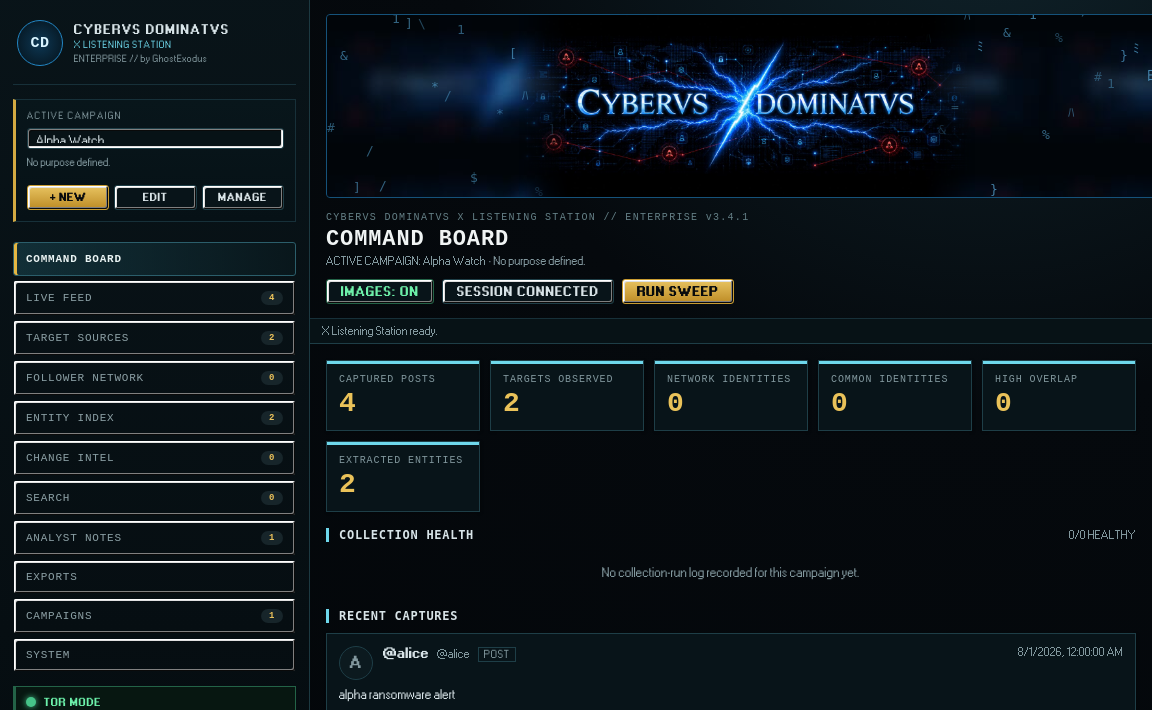
PC5 — restored analyst-UX filters (M12–M15, L2) › L2: the run-log passes ratio never renders greater than its requested budget
Click the button with class "xls-tab" showing "CHANGE INTEL 0": [70, 458] box [13,440,296,476]
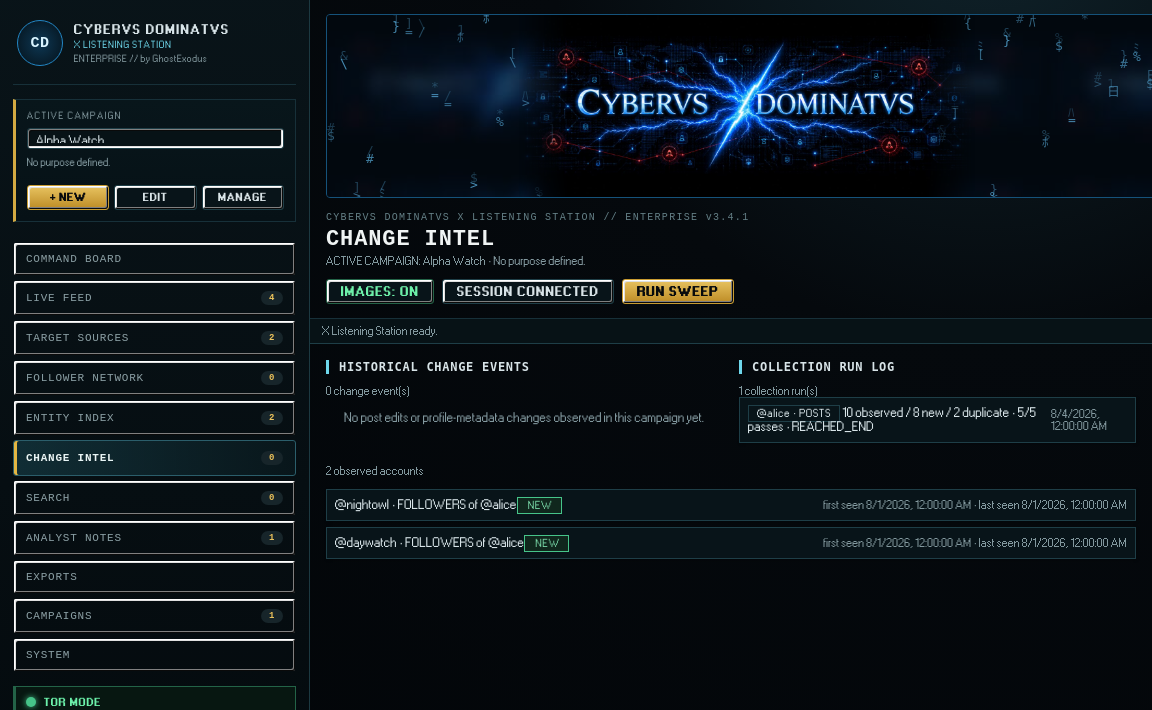
Check: the element with class "xls-changes" shows "5/5 passes", box [326,360,1136,559]
